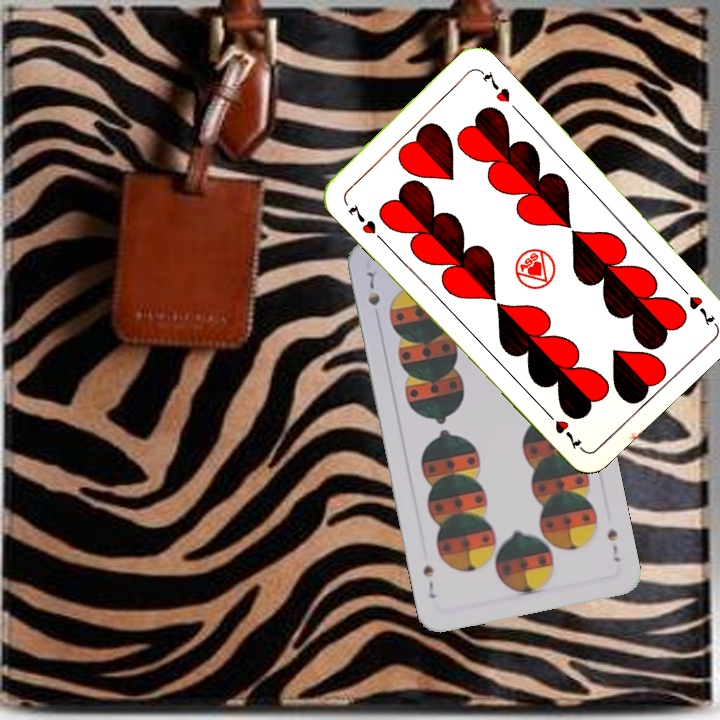H7: (674, 279, 718, 329), (344, 200, 379, 237)
S7: (362, 267, 383, 308), (603, 525, 623, 565)
